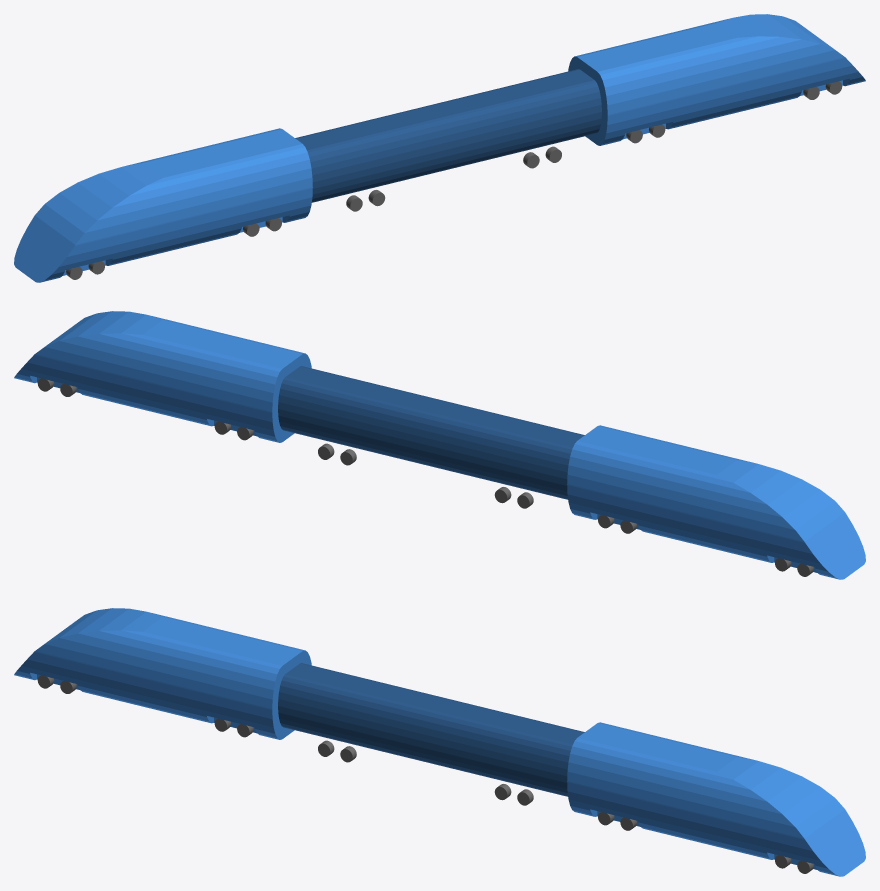
File: train.fbx
The picture shows the model from 3 angles, top to bottom: view 1: azimuth 30°, elevation 25°; view 2: azimuth 150°, elevation 25°; view 3: azimuth 330°, elevation 25°; orthographic projection.
Parts seen in each view (by area): view 1: Cube.001, Cube.002, Cube.003, Cube.005; view 2: Cube.001, Cube.002, Cube.003, Cube.005; view 3: Cube.002, Cube.001, Cube.003, Cube.005.
Part boxes in pixels (bbox=[...]): Cube.001: bbox=[14, 128, 312, 282]; Cube.002: bbox=[568, 14, 865, 145]; Cube.003: bbox=[295, 69, 601, 202]; Cube.005: bbox=[66, 81, 842, 279]; Cube.001: bbox=[567, 425, 865, 579]; Cube.002: bbox=[14, 311, 311, 442]; Cube.003: bbox=[278, 366, 584, 499]; Cube.005: bbox=[37, 378, 813, 576]; Cube.002: bbox=[567, 722, 865, 876]; Cube.001: bbox=[14, 608, 311, 739]; Cube.003: bbox=[278, 663, 584, 796]; Cube.005: bbox=[37, 675, 813, 873].
Bounding box in the file's own units: 1180 × 102 × 100.
